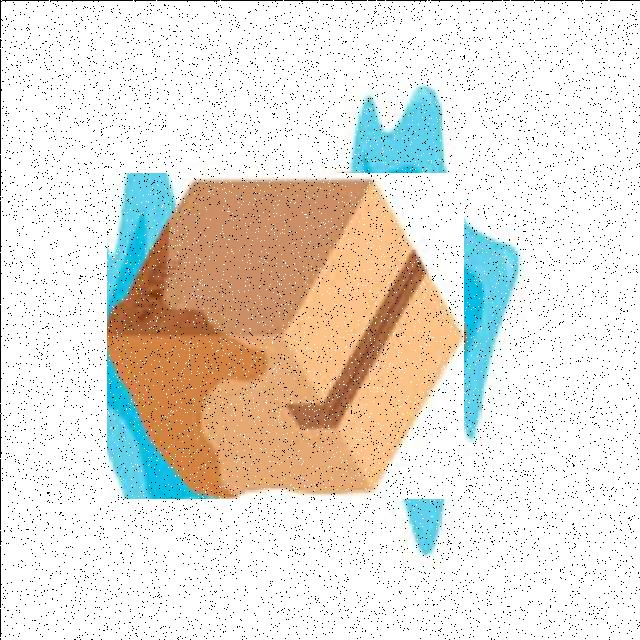defect: (106, 172, 463, 498)
